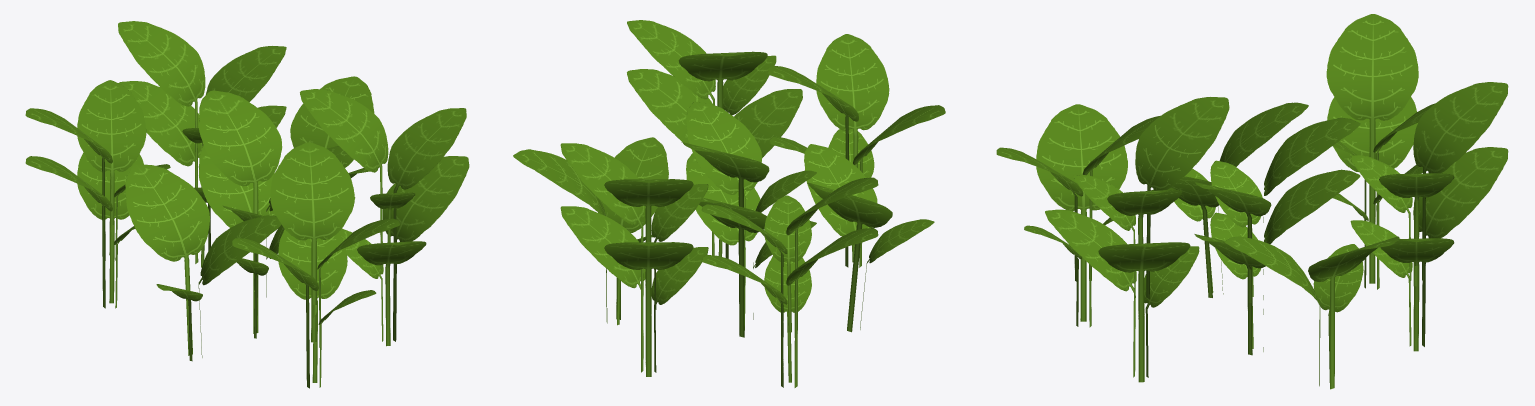
Rendered from Teen_Potato.fbx.
3 renders of one model, left to right at view 1: azimuth 30°, elevation 25°; view 2: azimuth 150°, elevation 25°; view 3: azimuth 270°, elevation 25°, orthographic. The views are drawn at different scales.
Visible parts, largest first — view 1: Teen__Potoatos; view 2: Teen__Potoatos; view 3: Teen__Potoatos.
Part boxes in pixels (box(x1,y1,x2,y2)): Teen__Potoatos: box(25, 21, 469, 388); Teen__Potoatos: box(513, 20, 945, 387); Teen__Potoatos: box(996, 14, 1508, 389).
Bounding box in the file's own units: 57.19 × 38.59 × 69.66.
1 material, 1 textured.
